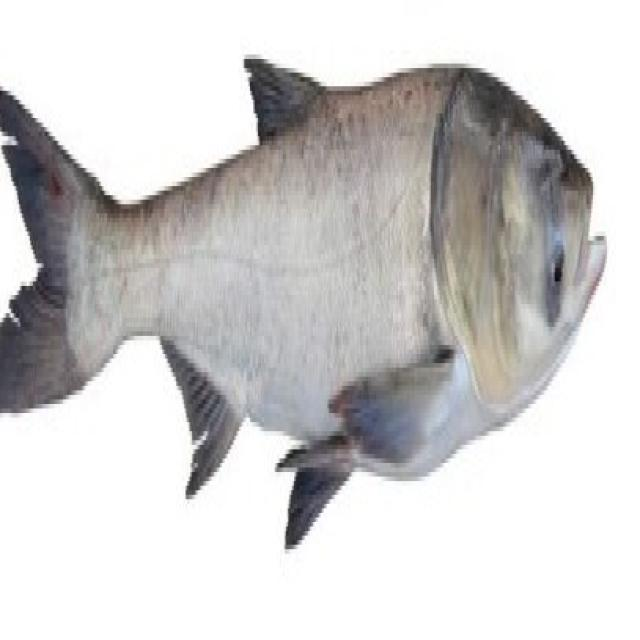Big-Head-Carp: (1, 12, 616, 599)
